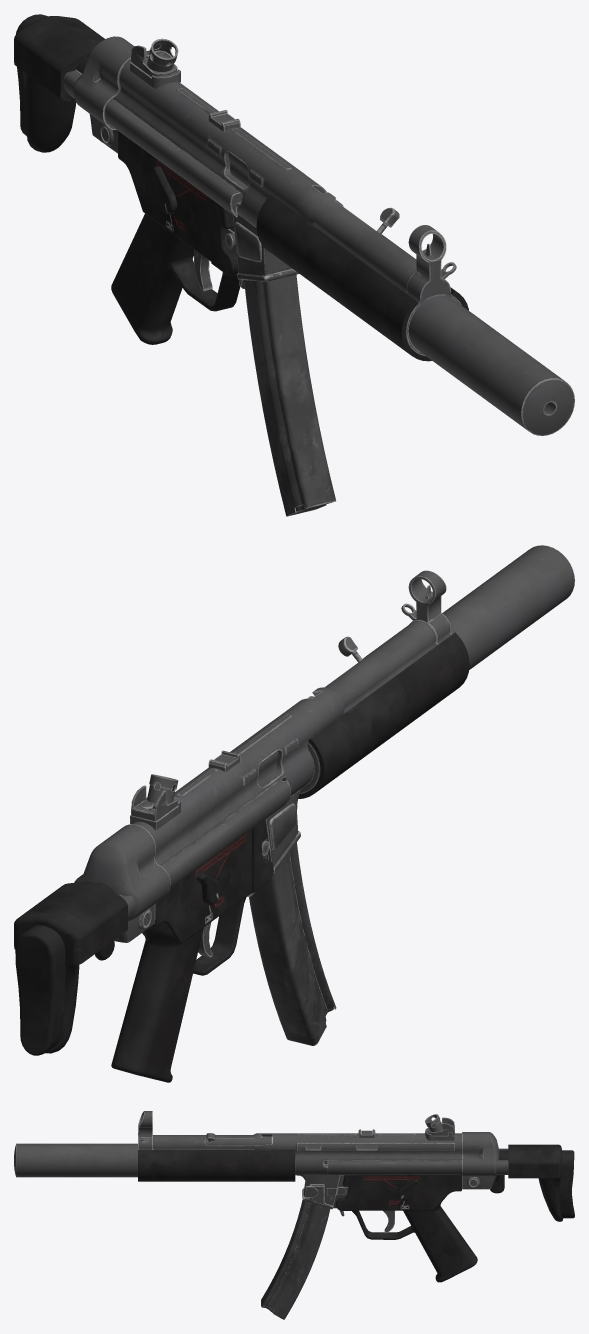
Rendered from suppressedsmg.glb.
3 renders of one model, top to bottom at view 1: azimuth 30°, elevation 25°; view 2: azimuth 150°, elevation 25°; view 3: azimuth 270°, elevation 25°, orthographic. The views are drawn at different scales.
Parts seen in each view (by area): view 1: Object_2, Object_3; view 2: Object_3, Object_2; view 3: Object_2, Object_3.
Part boxes in pixels (<box>): Object_2: <box>113,38,574,435</box>; Object_3: <box>14,14,335,516</box>; Object_3: <box>14,780,336,1082</box>; Object_2: <box>130,545,574,905</box>; Object_2: <box>14,1111,461,1209</box>; Object_3: <box>261,1132,574,1319</box>.
Size of the model in its own units: 0.0499 by 0.2645 by 0.6575.
2 materials, 2 textured.
